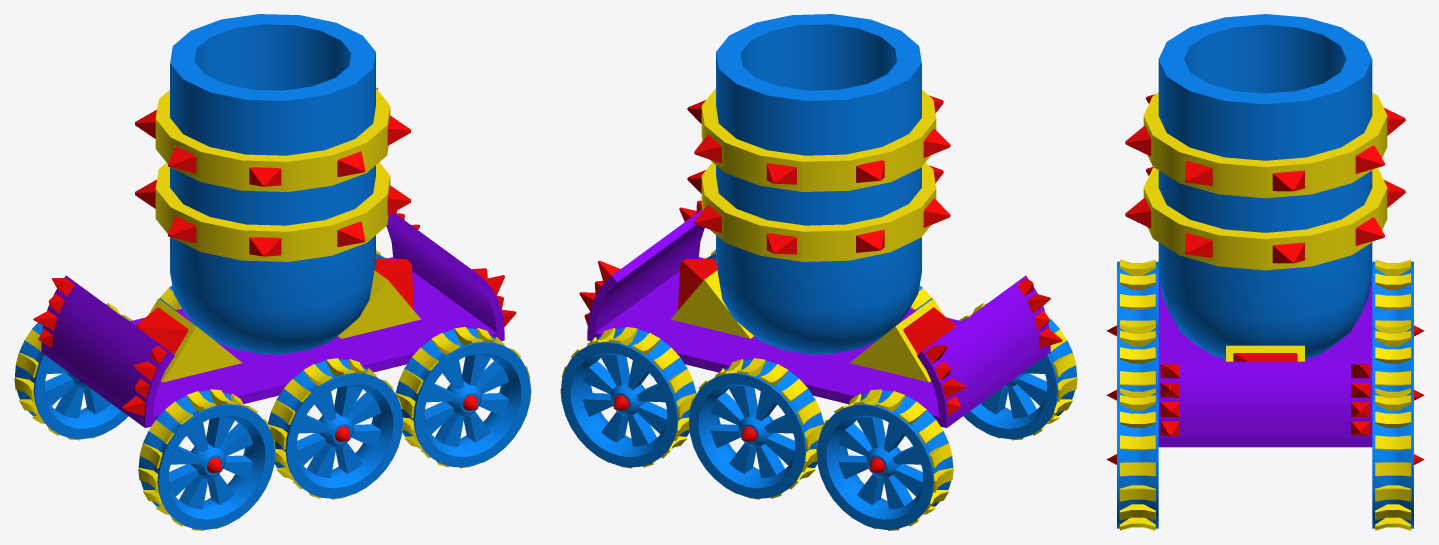
Rendered from Gun06.fbx.
3 views of the same model, side by side, from view 1: azimuth 30°, elevation 25°; view 2: azimuth 150°, elevation 25°; view 3: azimuth 270°, elevation 25° (orthographic). The views are drawn at different scales.
Visible parts, largest first — view 1: Cylinder.047, Cylinder.001, Plane.013, Cylinder.007, Cylinder.006, Plane.012, Cylinder.054; view 2: Cylinder.047, Cylinder.001, Plane.013, Cylinder.007, Cylinder.006, Plane.012, Cylinder.054; view 3: Cylinder.047, Plane.013, Cylinder.006, Plane.012, Cylinder.001, Cylinder.007, Cylinder.054.
Boxes of the visible parts, x1,y1,x2,y2 form: Cylinder.047: (135, 14, 410, 354); Cylinder.001: (14, 303, 275, 530); Plane.013: (33, 211, 516, 418); Cylinder.007: (159, 285, 403, 499); Cylinder.006: (376, 249, 531, 468); Plane.012: (41, 257, 504, 427); Cylinder.054: (136, 258, 421, 382); Cylinder.047: (687, 14, 950, 354); Cylinder.001: (816, 303, 1077, 530); Plane.013: (579, 200, 1062, 418); Cylinder.007: (688, 285, 932, 499); Cylinder.006: (560, 249, 715, 468); Plane.012: (587, 257, 1050, 427); Cylinder.054: (670, 258, 955, 382); Cylinder.047: (1125, 14, 1405, 358); Plane.013: (1158, 361, 1372, 437); Cylinder.006: (1106, 388, 1424, 530); Plane.012: (1158, 277, 1372, 447); Cylinder.001: (1106, 259, 1424, 336); Cylinder.007: (1106, 324, 1424, 400); Cylinder.054: (1226, 345, 1304, 361).
Bounding box in the file's own units: 438 × 414 × 298.
Materials: 1 (1 with a texture image).
